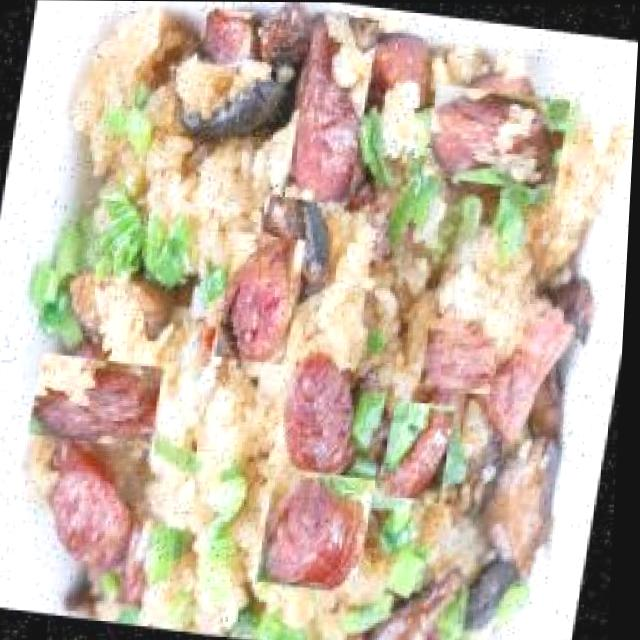chinese_sausage: (25, 453, 180, 609), (284, 12, 380, 205), (432, 73, 565, 201), (268, 345, 377, 490), (261, 467, 381, 595), (41, 343, 161, 459), (217, 231, 311, 365), (383, 397, 462, 503), (424, 326, 500, 399), (200, 6, 258, 70)
